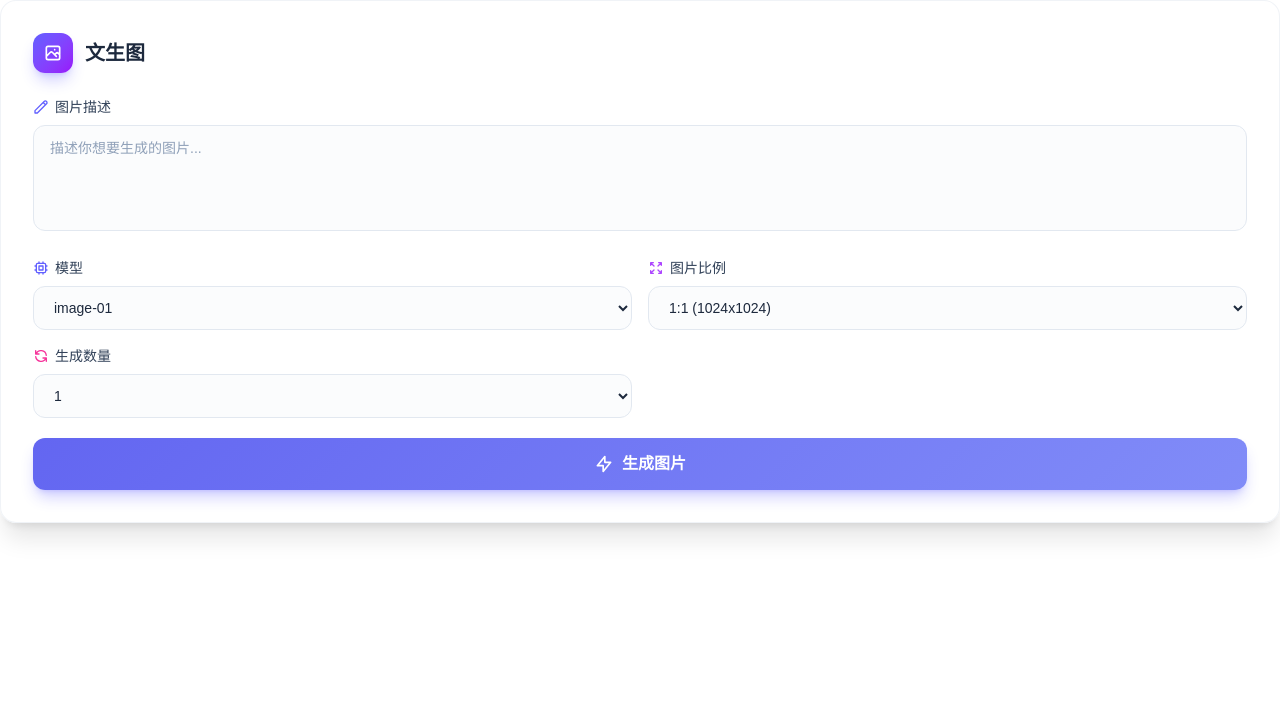
it: ImageGenForm › should show error when submitting empty prompt
Click the button "生成图片". click: (640, 464)
box: top-left (33, 438), bottom-right (1247, 490)
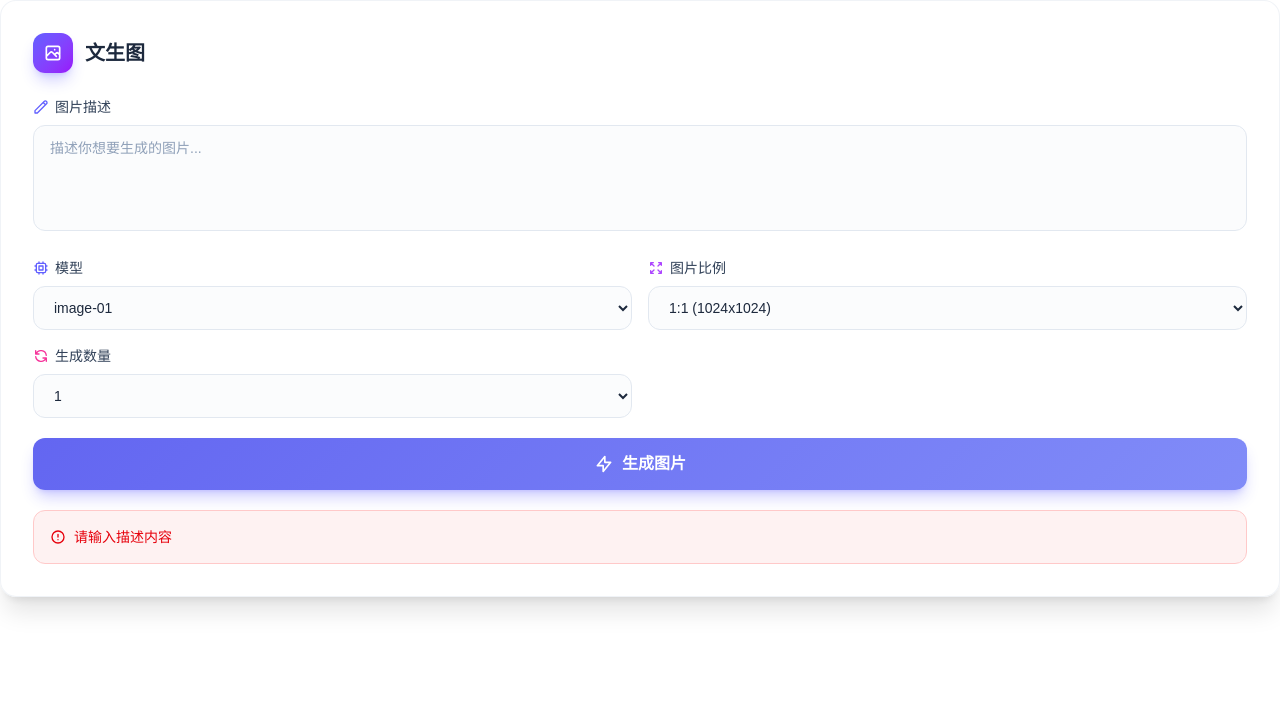
Expected: the text "请输入描述内容" is shown, top-left (50, 529), bottom-right (172, 545)
